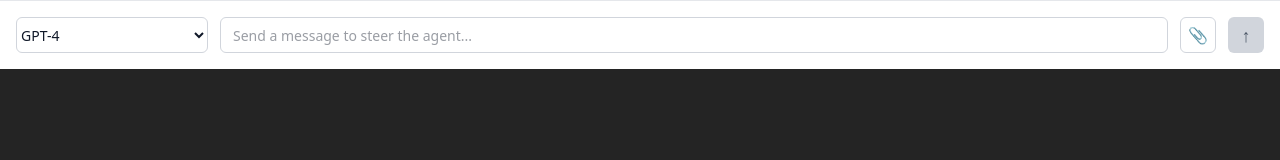
Test: LoopActionBar › disconnected model error › shows error when disconnected model is selected
Select "GPT-4" in the dropdown at (112, 35), box [16, 17, 208, 53]
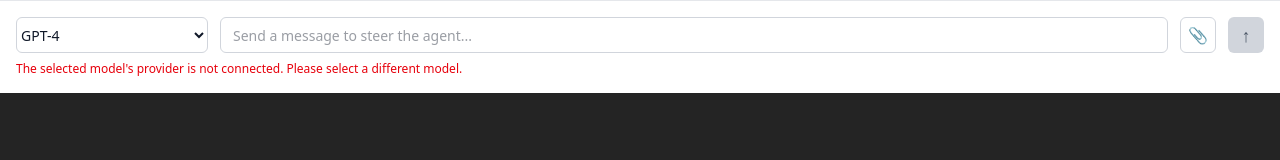
Check: the text "The selected model's provider is not connected" is shown, box [16, 60, 462, 77]
